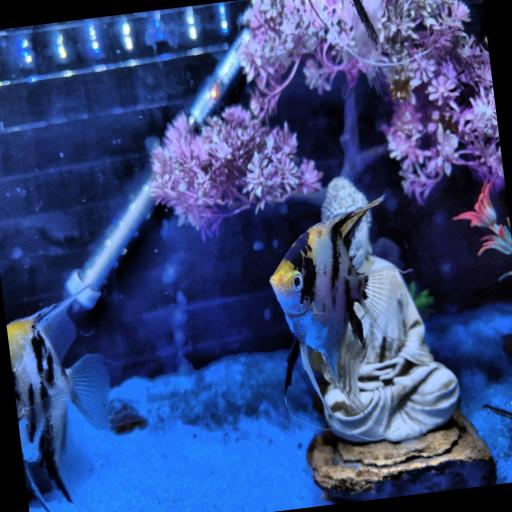Fish: (271, 198, 398, 416), (7, 298, 110, 511)
